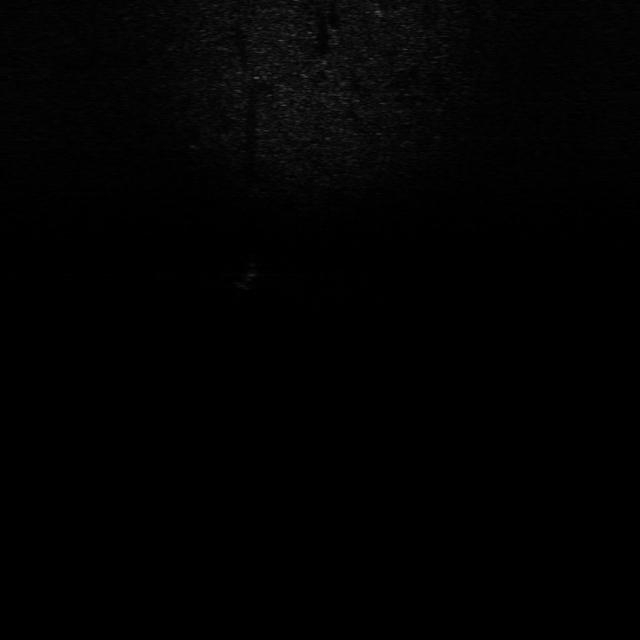human body: (232, 251, 263, 303)
